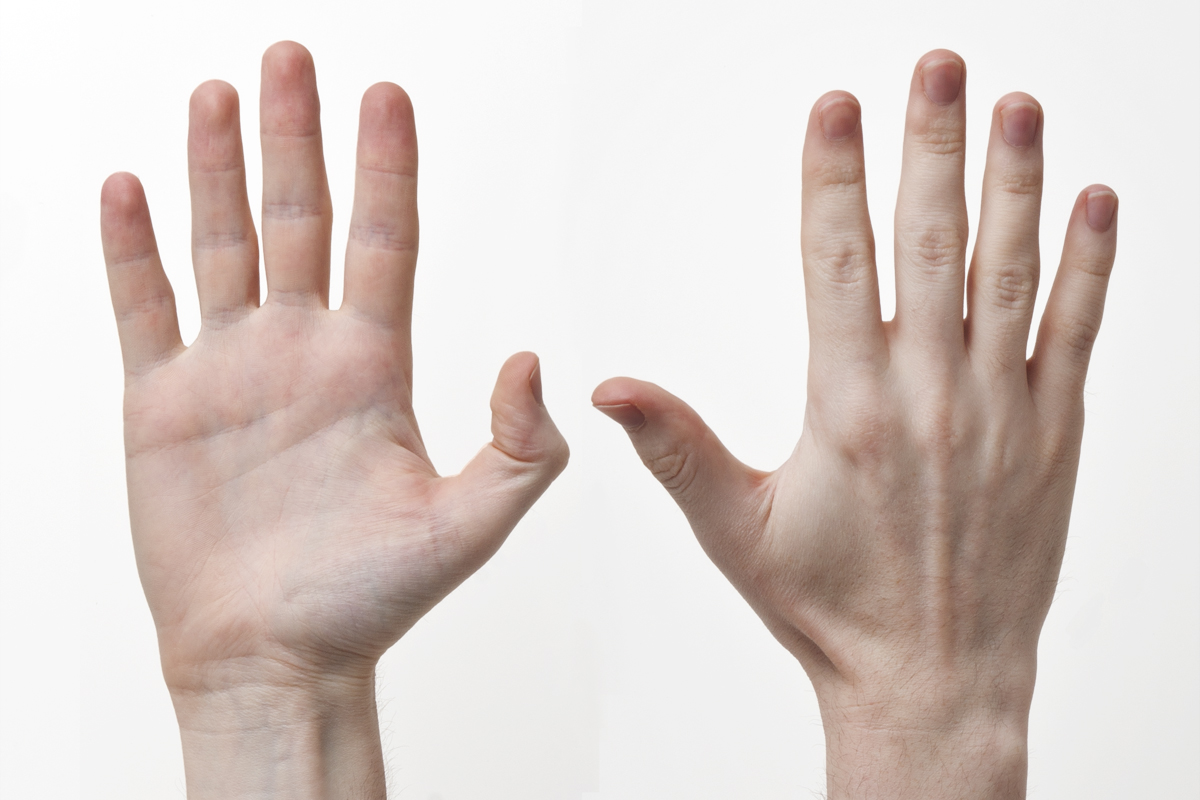finger: (894, 35, 972, 371), (796, 77, 883, 364), (340, 73, 422, 333), (971, 71, 1041, 374), (95, 159, 187, 384), (259, 37, 328, 314), (1035, 184, 1127, 385), (184, 75, 258, 311)
